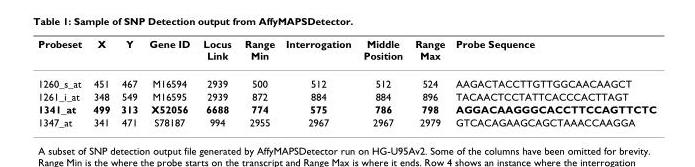table: (37, 37, 656, 127)
table column: (449, 37, 656, 127), (279, 37, 356, 127), (143, 37, 195, 127), (356, 37, 408, 127), (37, 37, 86, 127), (195, 37, 237, 127), (237, 37, 279, 127), (408, 37, 449, 127), (114, 37, 143, 127), (86, 37, 114, 127)
table column header: (37, 37, 656, 69)
table row: (37, 37, 656, 69), (37, 69, 656, 89), (37, 89, 656, 102), (37, 102, 656, 115), (37, 115, 656, 127)
